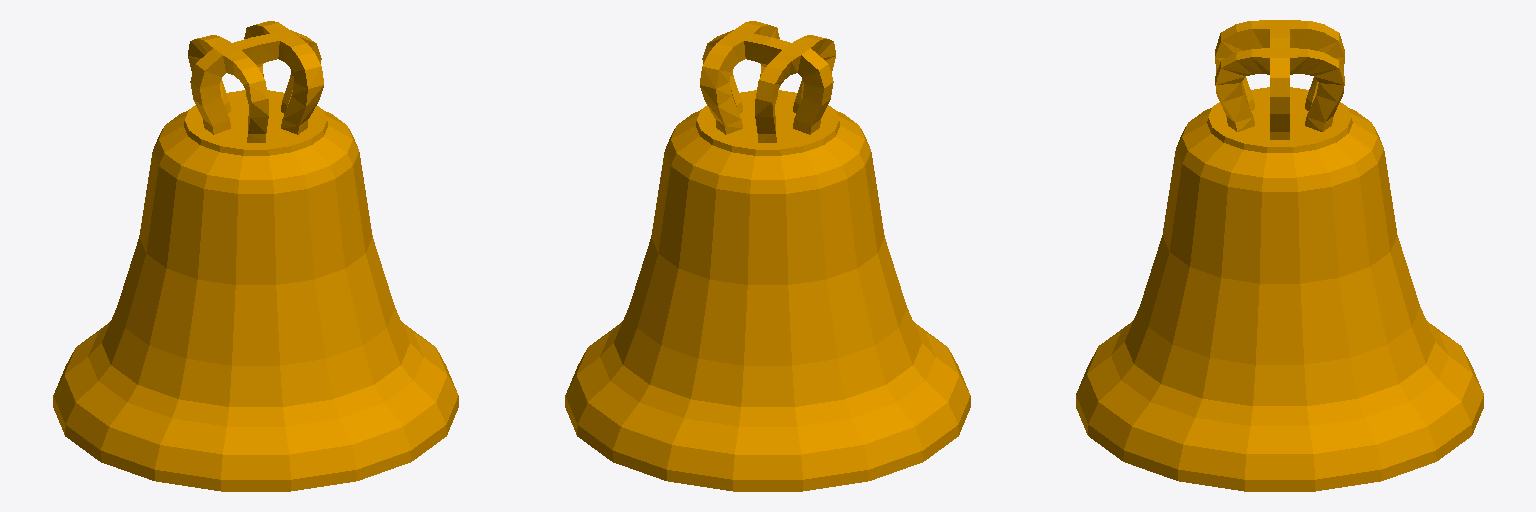
The robot description file, URDF, robot "mesh_object":
<?xml version="1.0" ?>
            <robot name="mesh_object">
            <link name="base">
                <visual>
                    <geometry>
                        <mesh filename="1.obj" scale="0.1 0.1 0.1"/>
                    </geometry>
                </visual>
                <collision>
                    <geometry>
                        <mesh filename="1.obj" scale="0.1 0.1 0.1"/>
                    </geometry>
                </collision>
                <inertial>
                    <origin xyz="0 0 0.049962872500000005" rpy="0 0 0"/>
                    <mass value="0.5"/>
                    <inertia ixx="0.01" iyy="0.01" izz="0.01" ixy="0" ixz="0" iyz="0"/>
                </inertial>
            </link>
            </robot>
        

--- What the picture shows (computed from the rendered views, not written in the file) ---
Views: 3 orthographic renders of the robot side by side, from view 1: azimuth 30°, elevation 25°; view 2: azimuth 150°, elevation 25°; view 3: azimuth 270°, elevation 25°.
Robot: mesh_object — 1 links, 0 joints (none); root link base; default pose: every joint at zero.
Links seen in each view (by area): view 1: base; view 2: base; view 3: base.
Link boxes in pixels (bbox=[...]): base: bbox=[53, 21, 458, 491]; base: bbox=[565, 21, 970, 491]; base: bbox=[1076, 20, 1483, 491].
Bounding box of the posed robot: 0.0831 × 0.0844 × 0.0999 m (x, y, z).
1 mesh visuals loaded from 1 distinct referenced files (1 OBJ).
